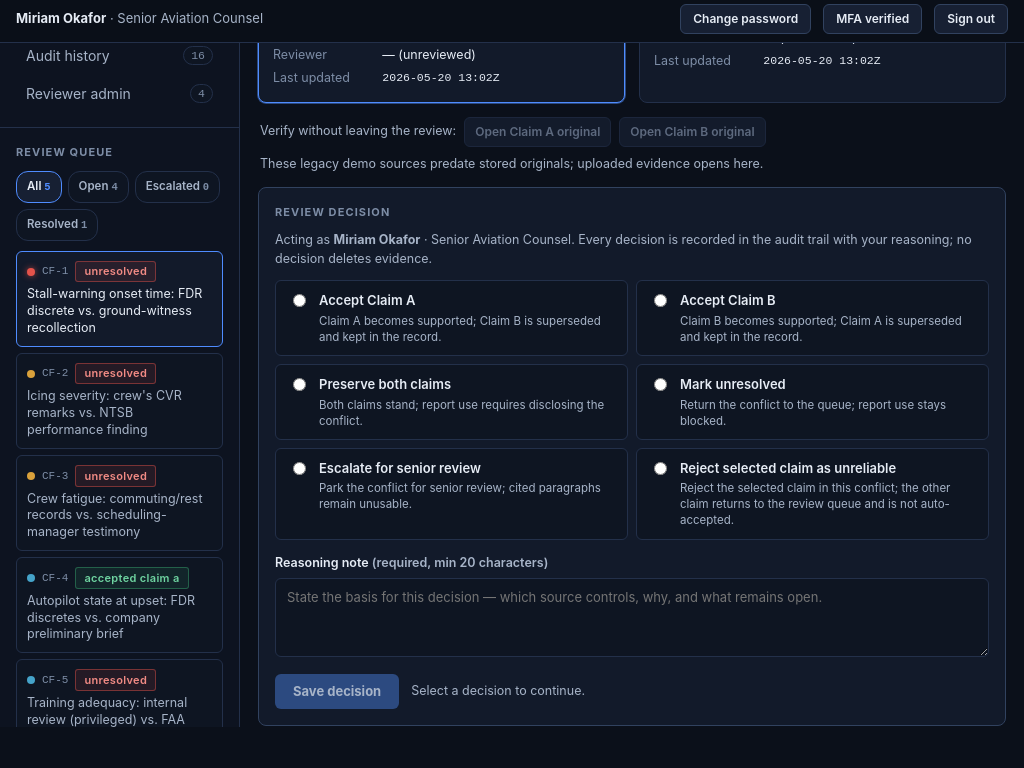
Scenario: server mode › flips to the sign-in screen when the session expires mid-work
The width and height of the screenshot is (1024, 768).
(page scrolled)
Click the radio button labelled "Preserve both claims" at [300, 384], box [293,378,306,391]
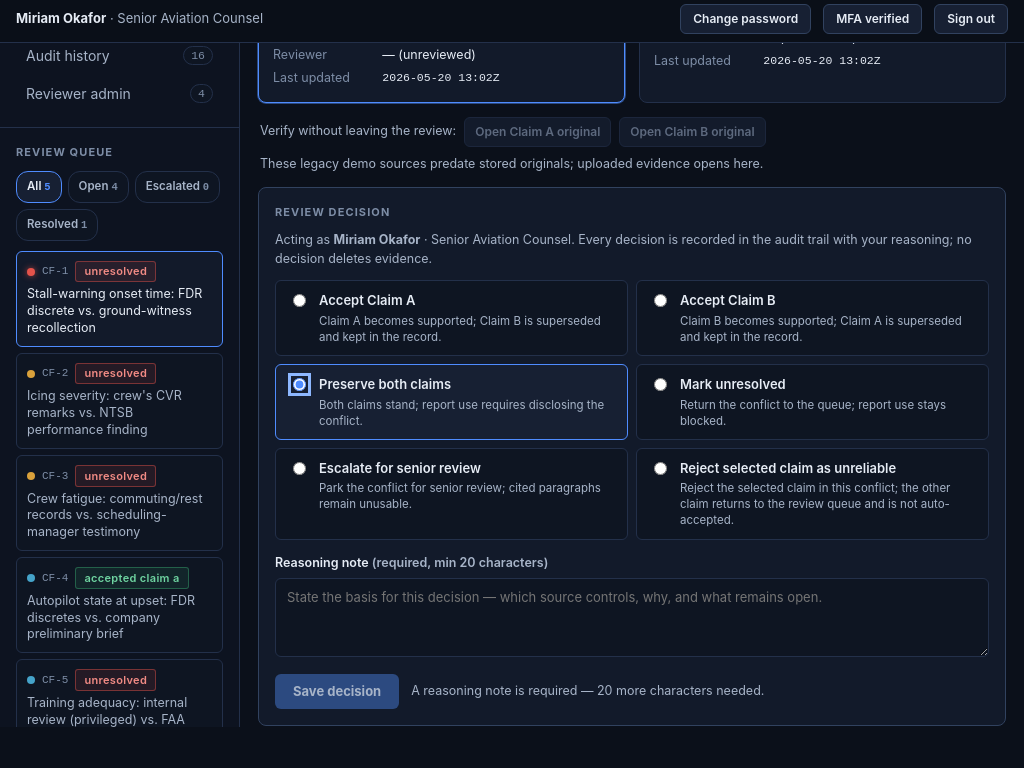
Type "Long enough reasoning for the client-side gate to pass." into the text box labelled "Reasoning note (required, min 20 characters)" at [632, 618], box [275,578,989,657]
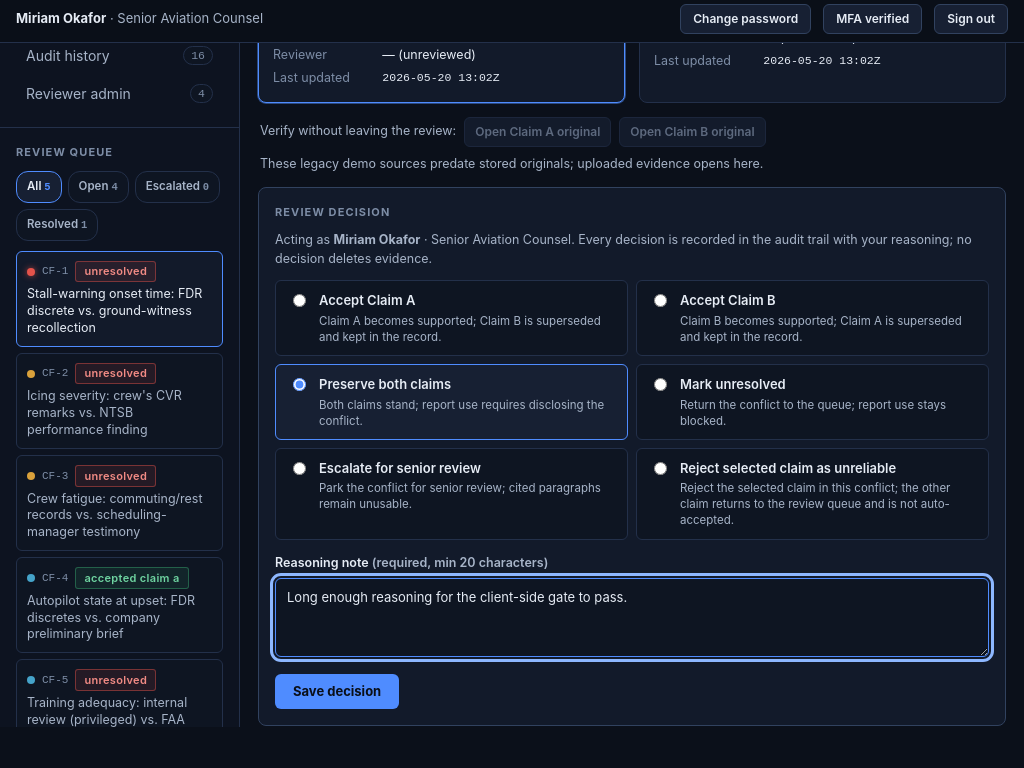
Click the button "Save decision" at [337, 692], box [275,674,399,709]
(page scrolled)
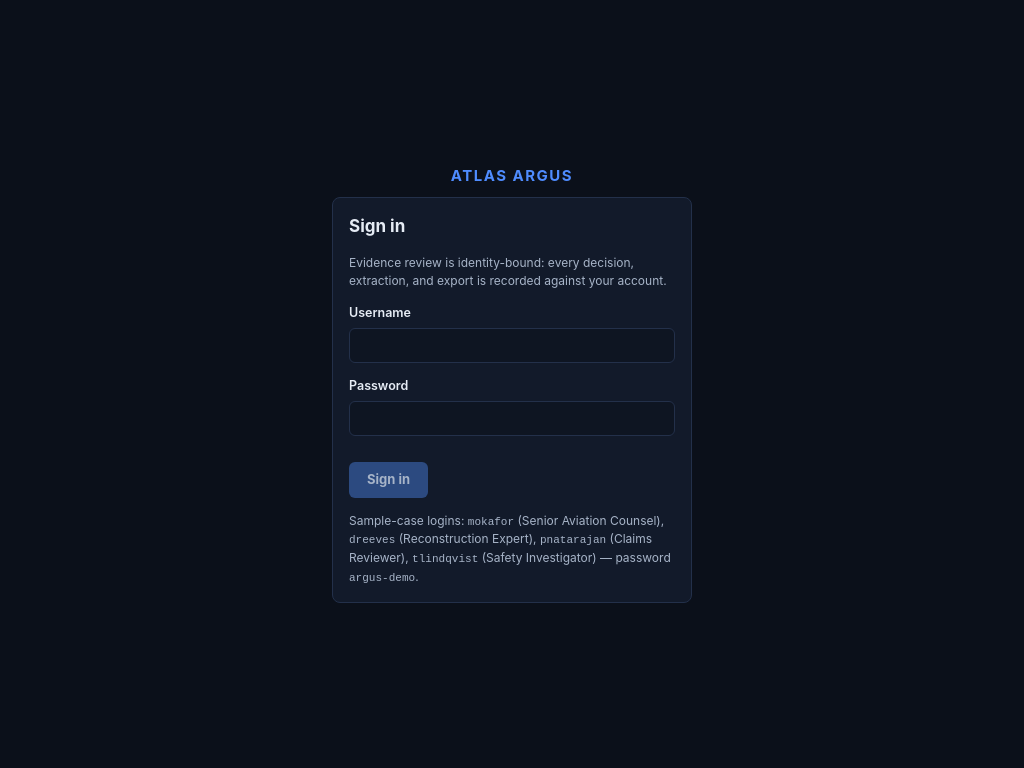
Expected: the heading "Sign in" is shown, [349,216,405,236]
